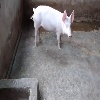heo: (28, 3, 75, 51)
